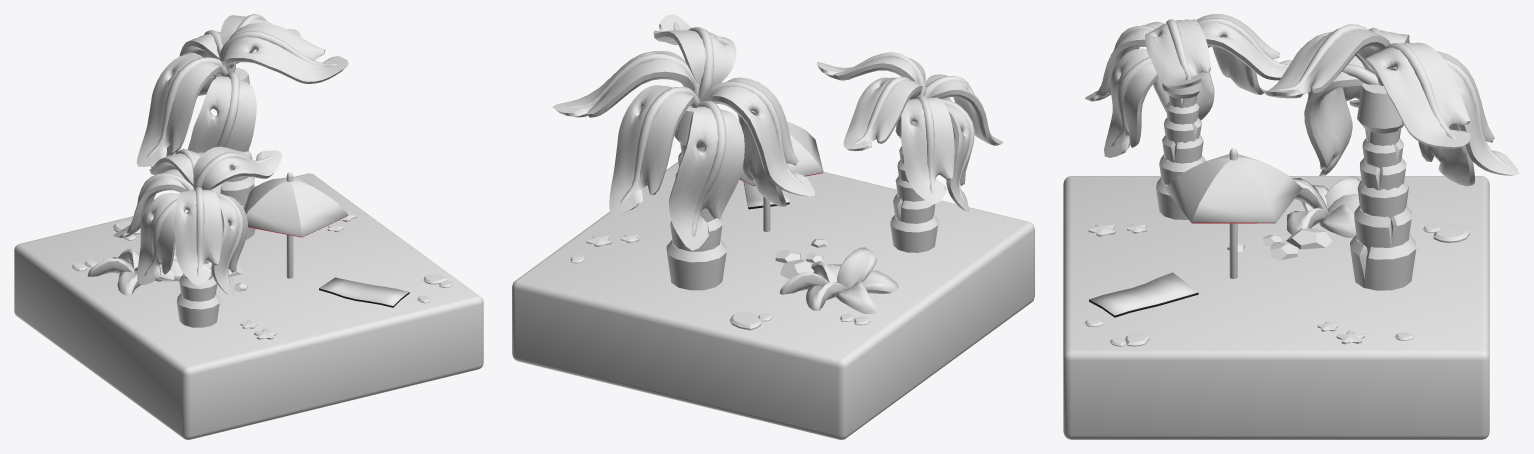
The model's file is Nivel 2,1 (Playa).fbx.
3 views of the same model, side by side, from view 1: azimuth 30°, elevation 25°; view 2: azimuth 150°, elevation 25°; view 3: azimuth 270°, elevation 25° (orthographic). The views are drawn at different scales.
Visible parts, largest first — view 1: 2.1; view 2: 2.1; view 3: 2.1.
Part boxes in pixels (x1,y1,x2,y2): 2.1: [14, 14, 483, 439]; 2.1: [512, 14, 1034, 439]; 2.1: [1063, 14, 1519, 439].
Size of the model in its own units: 1410 by 1265 by 1509.
